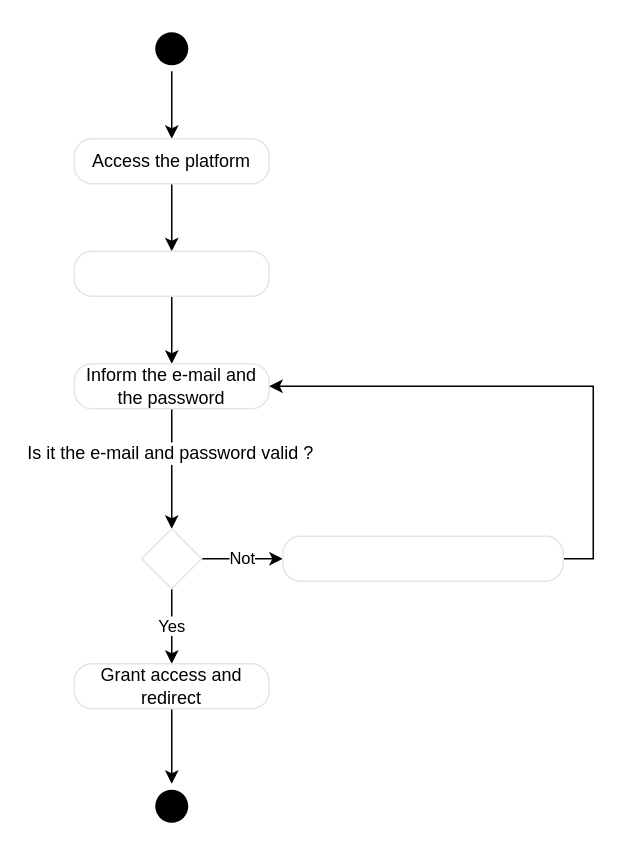
Some shapes in this 632 by 854 pixel diagram are drawn without their labels. Each missing label, with the box of its shape:
Change the e-mail or password field color and inform a message: (281, 535, 563, 581)
Select the login option: (73, 250, 269, 296)
